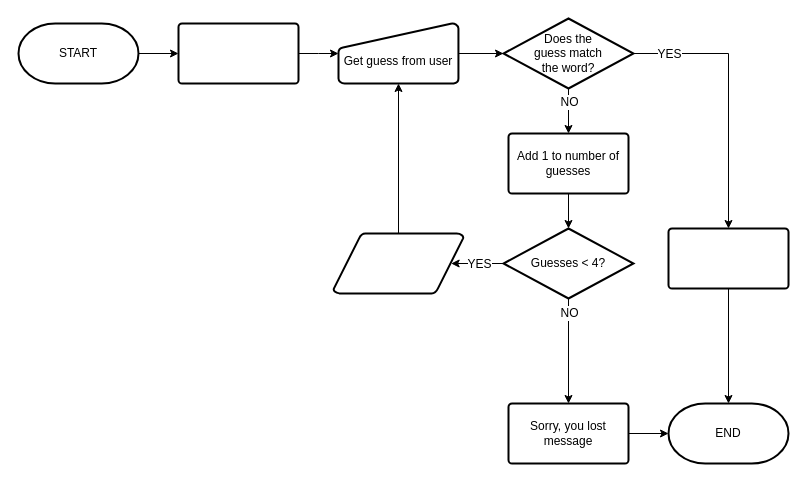
Image size: 806x481. Some labels were removed from this diagram. Each missing label, with the box of its shape:
Computer generates random 5 letter word from dictionary: (177, 22, 299, 84)
Congrats, you win message: (667, 227, 789, 289)
Output number of matching letters: (332, 232, 464, 294)
